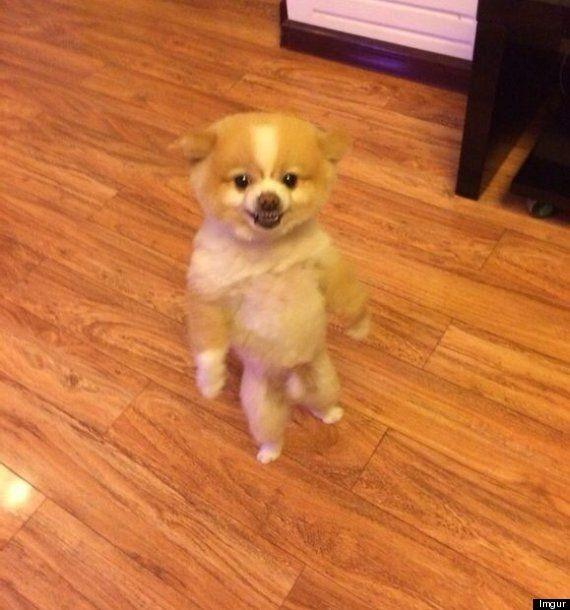puppy-dog: (169, 112, 378, 466)
